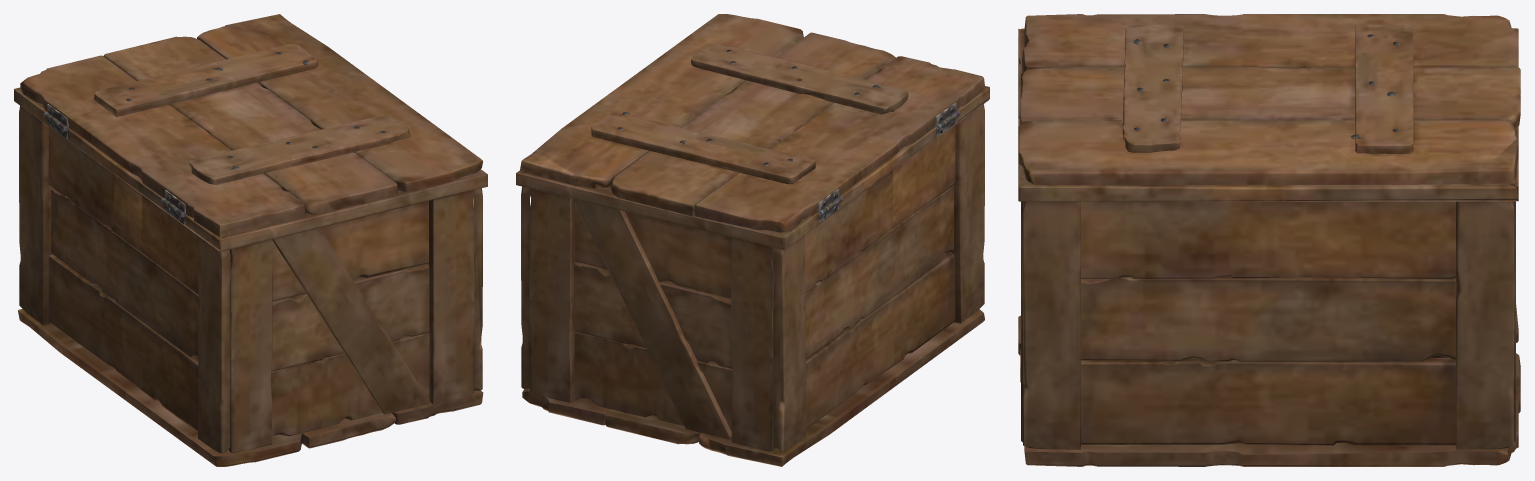
The model's file is SM_ChestWood_a26440.glb.
3 renders of one model, left to right at view 1: azimuth 30°, elevation 25°; view 2: azimuth 150°, elevation 25°; view 3: azimuth 270°, elevation 25°, orthographic. The views are drawn at different scales.
Size of the model in its own units: 0.8949 by 0.7926 by 1.18.
Materials: 1 (1 with a texture image).
